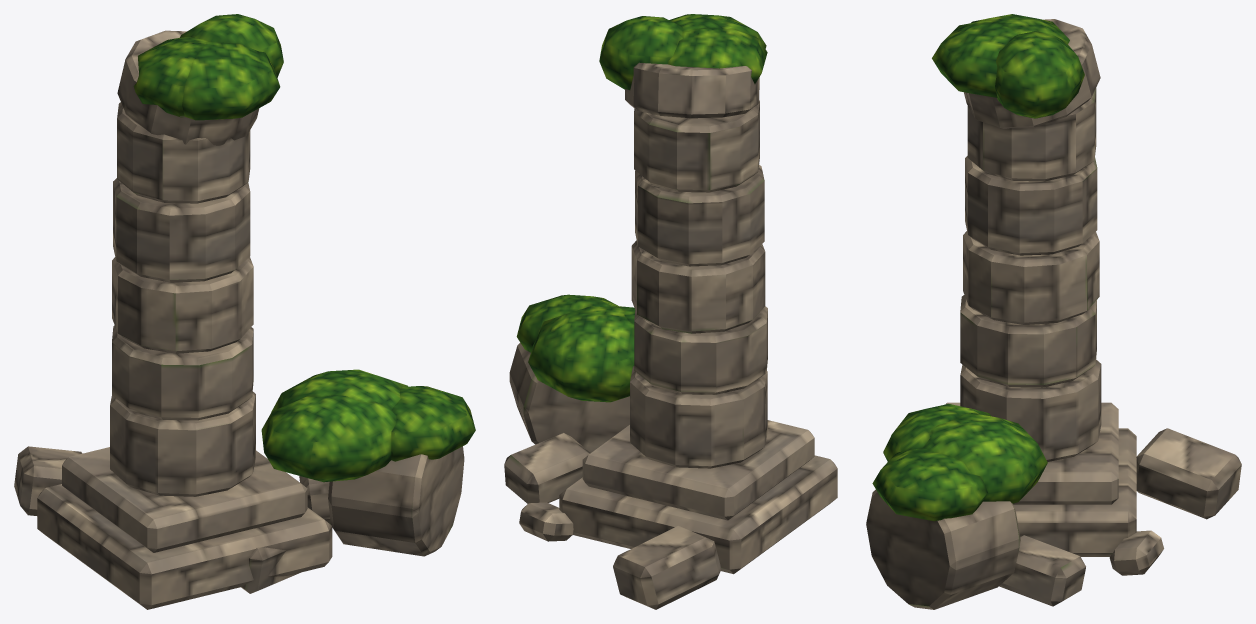
Rendered from mapkit_pillar_forest.fbx.
The picture shows the model from 3 angles, left to right: view 1: azimuth 30°, elevation 25°; view 2: azimuth 150°, elevation 25°; view 3: azimuth 270°, elevation 25°; orthographic projection. The views are drawn at different scales.
Visible parts, largest first — view 1: Body; view 2: Body; view 3: Body.
Boxes of the visible parts, x1=… form: Body: x1=14, y1=14, x2=475, y2=609; Body: x1=504, y1=14, x2=837, y2=609; Body: x1=866, y1=14, x2=1241, y2=609.
Bounding box in the file's own units: 521 × 789 × 525.
Materials: 1 (1 with a texture image).
